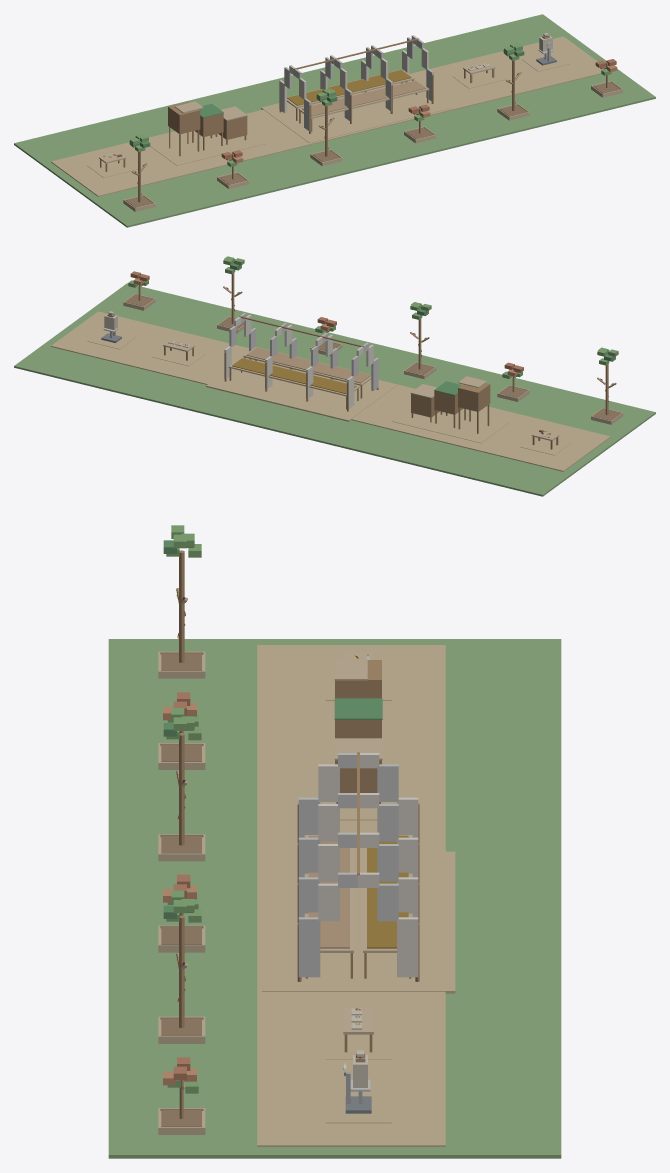
The model's file is cacao_layout.glb.
The picture shows the model from 3 angles, top to bottom: view 1: azimuth 30°, elevation 25°; view 2: azimuth 150°, elevation 25°; view 3: azimuth 270°, elevation 25°; orthographic projection. The views are drawn at different scales.
Parts seen in each view (by area): view 1: model; view 2: model; view 3: model.
Boxes of the visible parts, <box> form: model: <box>14,14,655,227</box>; model: <box>14,256,655,496</box>; model: <box>108,525,561,1158</box>.
Bounding box in the file's own units: 25.9 × 3.23 × 9.6.
